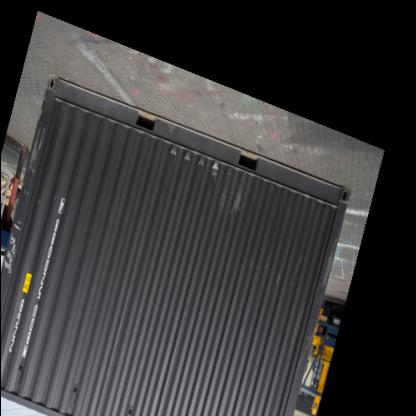Damage: (5, 119, 44, 274), (156, 143, 230, 183)
